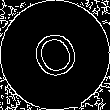O_SE: (25, 23, 85, 87)
